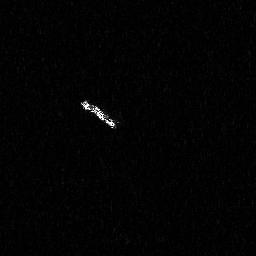ship: (79, 99, 121, 132)
